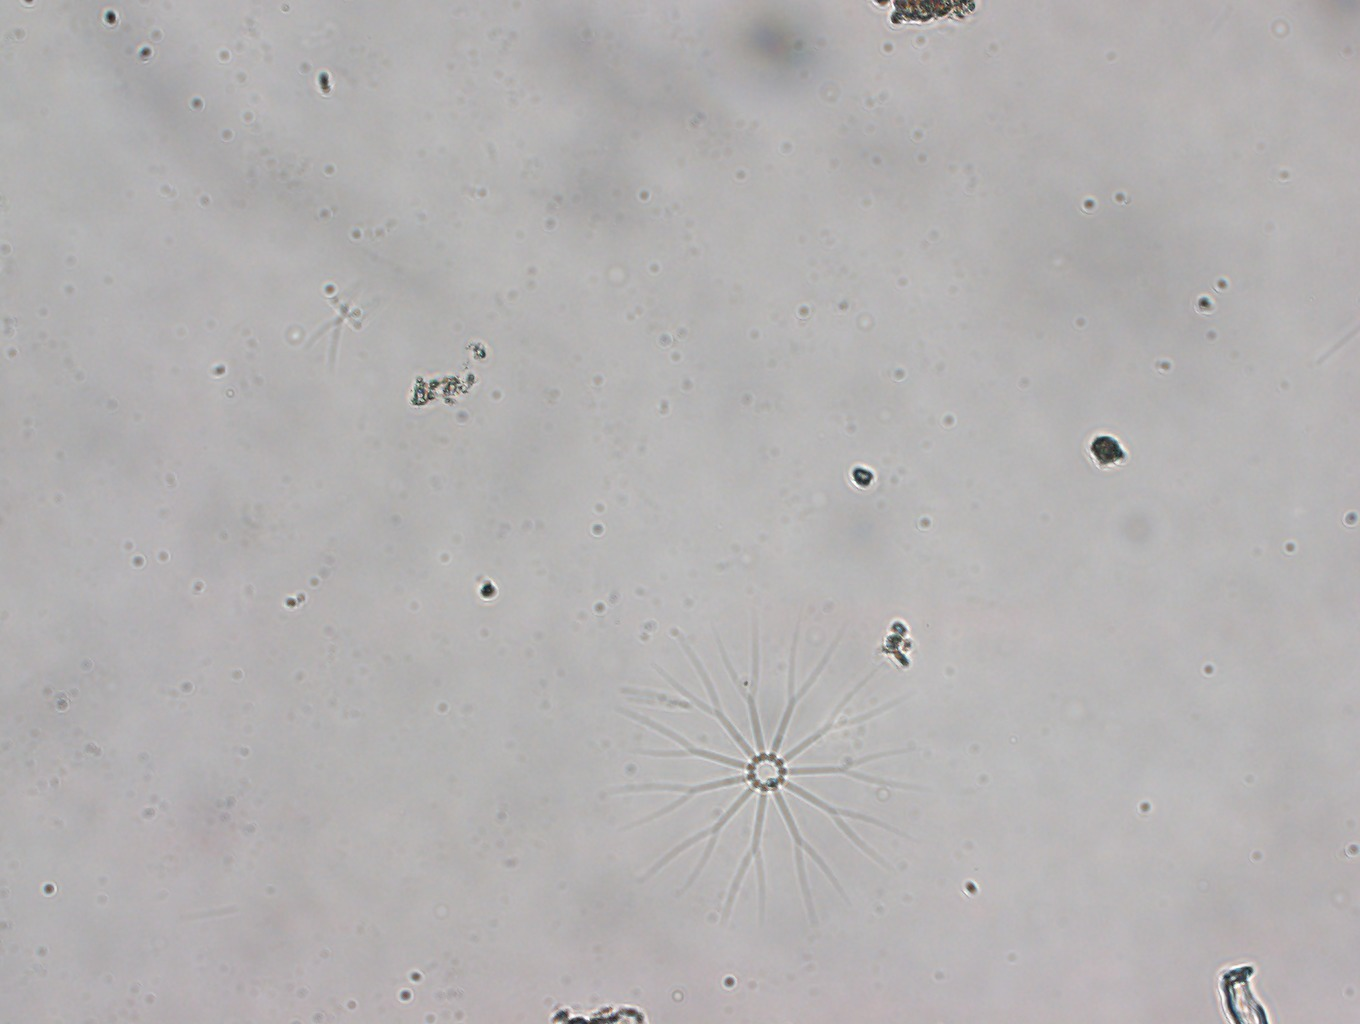bacteriastrum: (620, 610, 929, 925)
